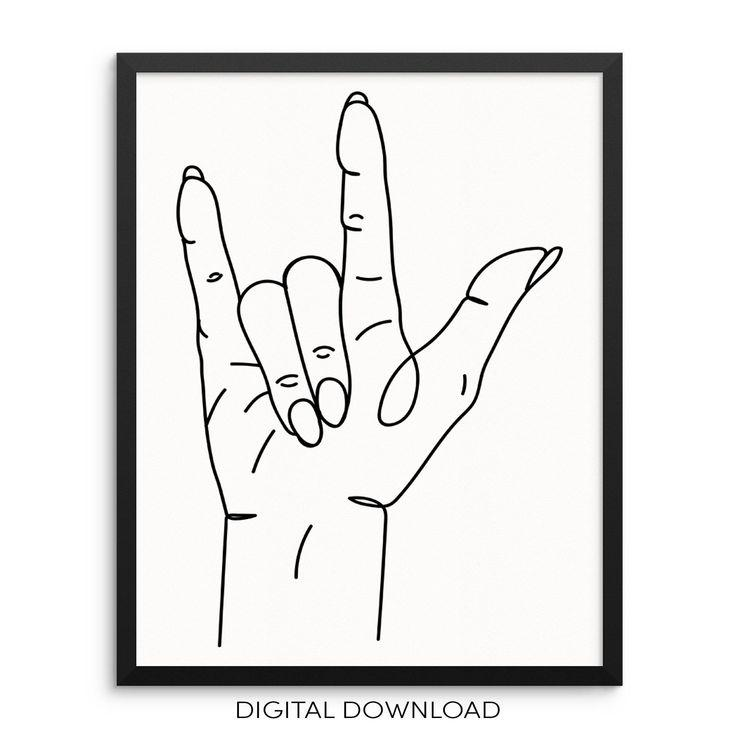Love_you: (169, 93, 572, 660)
